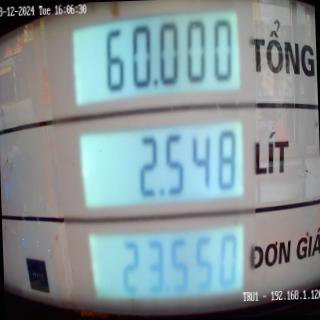screen: (64, 0, 253, 320)
